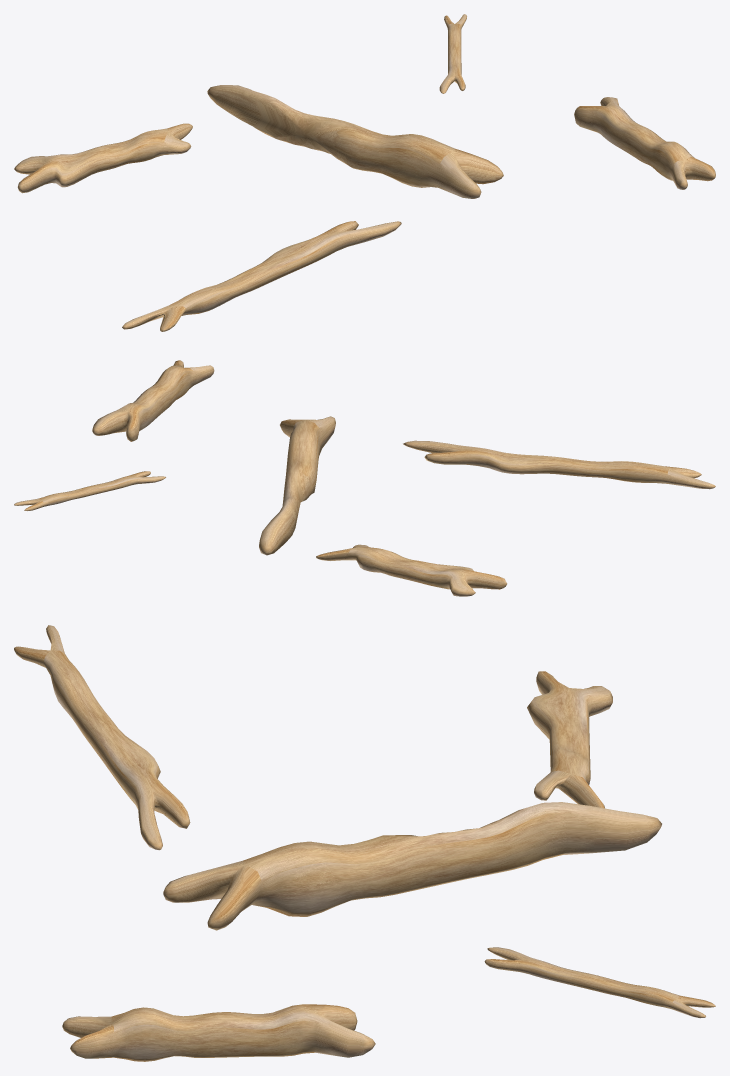
Rendered from PileOfBones1.FBX.
3 views of the same model, one above another, from view 1: azimuth 30°, elevation 25°; view 2: azimuth 150°, elevation 25°; view 3: azimuth 270°, elevation 25° (orthographic). The views are drawn at different scales.
Parts seen in each view (by area): view 1: MainBone2, Bone2_01, Bone2_04, Bone2_02, Bone2_03; view 2: Bone2_01, MainBone2, Bone2_04, Bone2_02, Bone2_03; view 3: MainBone2, Bone2_02, Bone2_01, Bone2_04, Bone2_03.
Part boxes in pixels (x1,y1,x2,y2): MainBone2: (207, 85, 503, 198); Bone2_01: (122, 221, 401, 331); Bone2_04: (14, 123, 192, 193); Bone2_02: (574, 97, 715, 189); Bone2_03: (439, 14, 466, 93); Bone2_01: (403, 440, 715, 489); MainBone2: (259, 416, 335, 555); Bone2_04: (316, 544, 507, 596); Bone2_02: (92, 360, 214, 441); Bone2_03: (14, 471, 165, 510); MainBone2: (163, 802, 661, 930); Bone2_02: (62, 1004, 375, 1061); Bone2_01: (14, 625, 190, 850); Bone2_04: (527, 671, 612, 808); Bone2_03: (484, 947, 715, 1018).
Bounding box in the file's own units: 52.95 × 4 × 37.06.
Materials: 1 (1 with a texture image).
